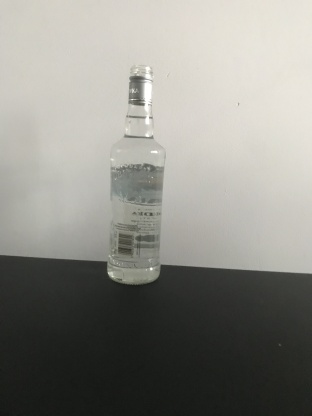nakretka: (126, 62, 154, 107)
